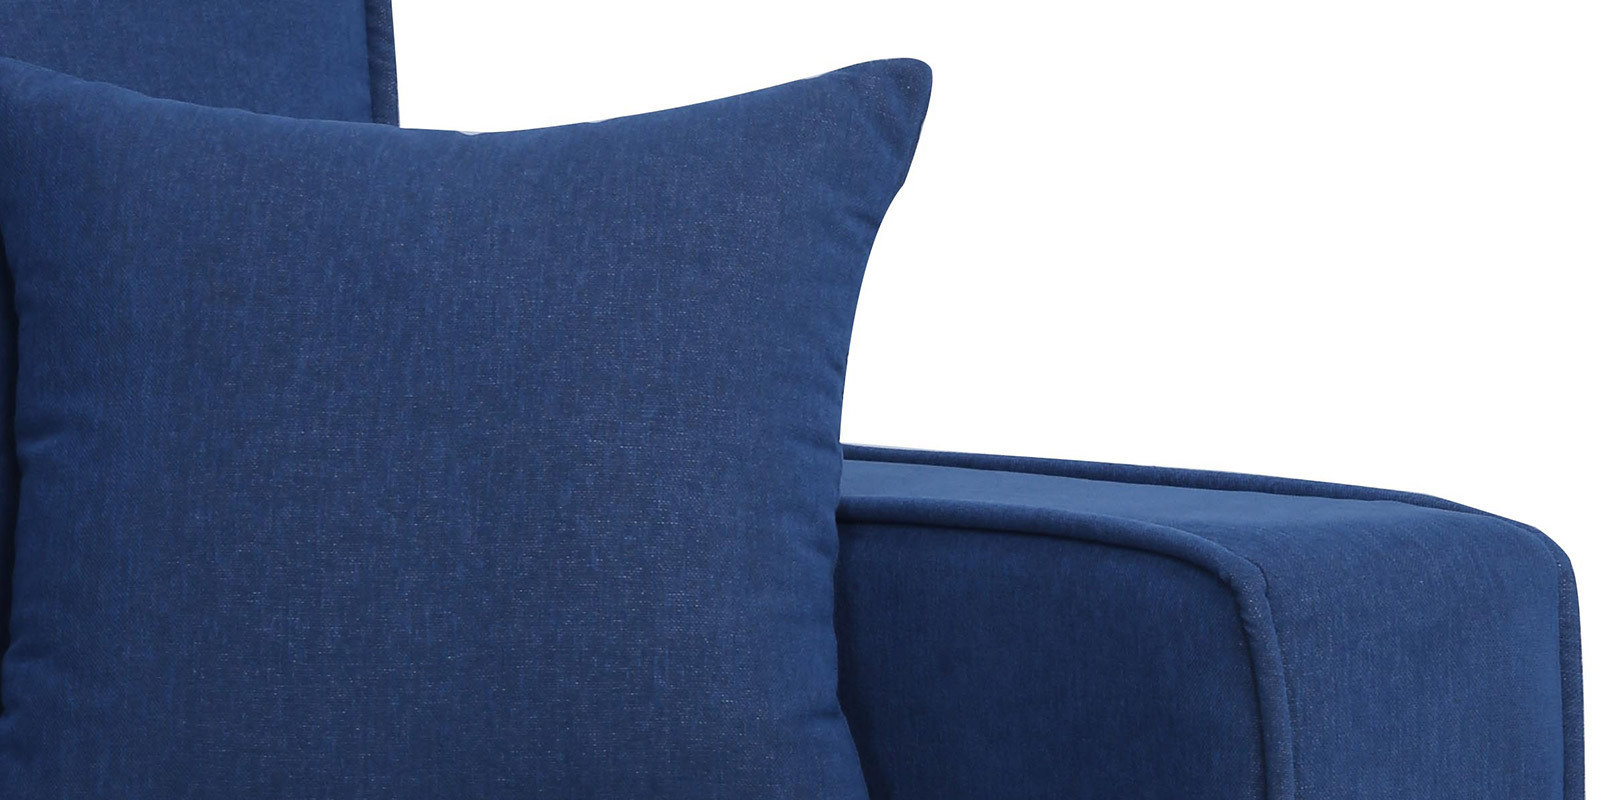Hugo Three Seater Sofa in Denim Blue Colour by CasaCraft: (3, 1, 1578, 800)
